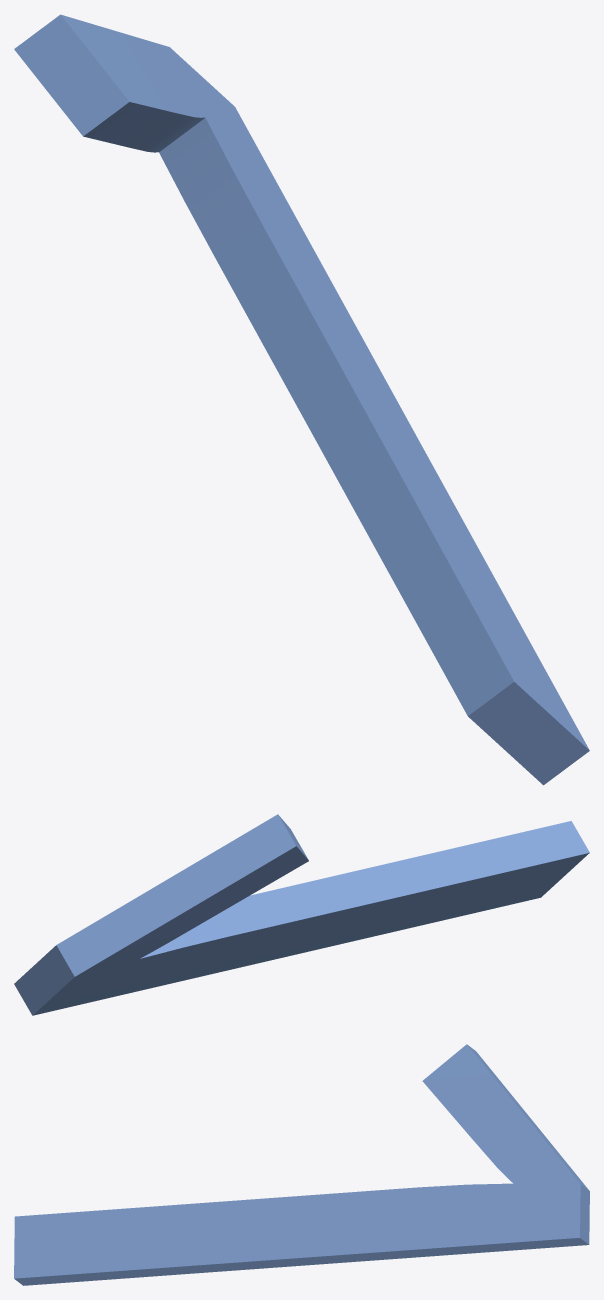
File: New_Number_1.gltf
3 renders of one model, top to bottom at view 1: azimuth 30°, elevation 25°; view 2: azimuth 150°, elevation 25°; view 3: azimuth 270°, elevation 25°, orthographic. The views are drawn at different scales.
Visible parts, largest first — view 1: Part 658; view 2: Part 658; view 3: Part 658.
Part boxes in pixels (x1,y1,x2,y2): Part 658: [14, 14, 589, 785]; Part 658: [14, 814, 589, 1015]; Part 658: [14, 1044, 589, 1285].
Bounding box in the file's own units: 0.00162 × 0.00219 × 0.00494.
